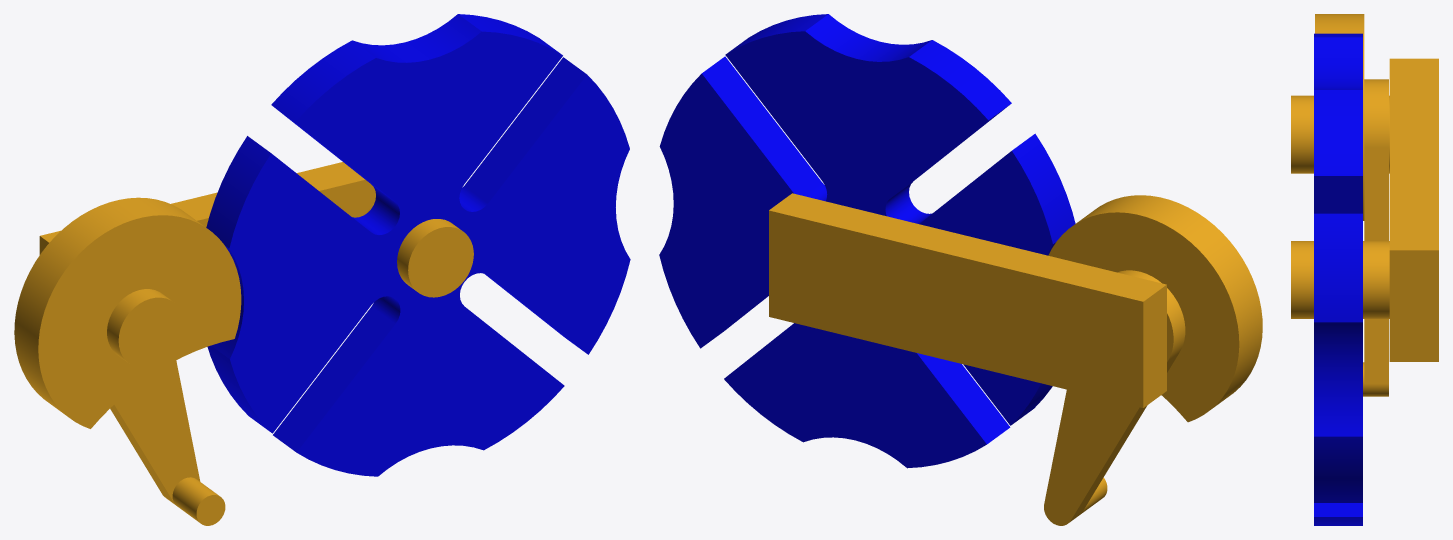
File: geneva1.0.0.14.dae
3 renders of one model, left to right at view 1: azimuth 30°, elevation 25°; view 2: azimuth 150°, elevation 25°; view 3: azimuth 270°, elevation 25°, orthographic. The views are drawn at different scales.
Parts seen in each view (by area): view 1: Actor0, Actor1, Actor2; view 2: Actor0, Actor2, Actor1; view 3: Actor0, Actor2, Actor1.
Part boxes in pixels (<box>): Actor0: <box>206,14,630,476</box>; Actor1: <box>14,197,241,525</box>; Actor2: <box>39,162,473,368</box>; Actor0: <box>659,14,1075,468</box>; Actor2: <box>769,193,1166,407</box>; Actor1: <box>1044,195,1262,525</box>; Actor0: <box>1314,33,1362,525</box>; Actor2: <box>1291,58,1438,361</box>; Actor1: <box>1315,14,1388,396</box>.
Bounding box in the file's own units: 0.2855 × 0.1976 × 0.06.
